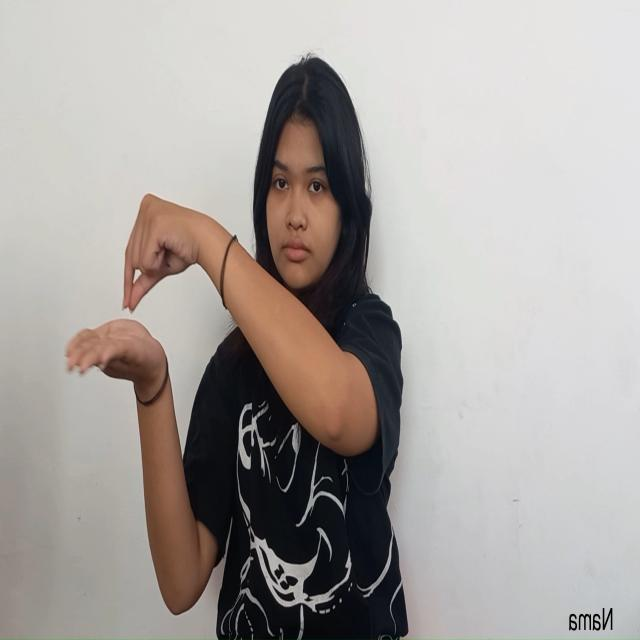Nama -BISINDO-: (62, 192, 205, 404)
